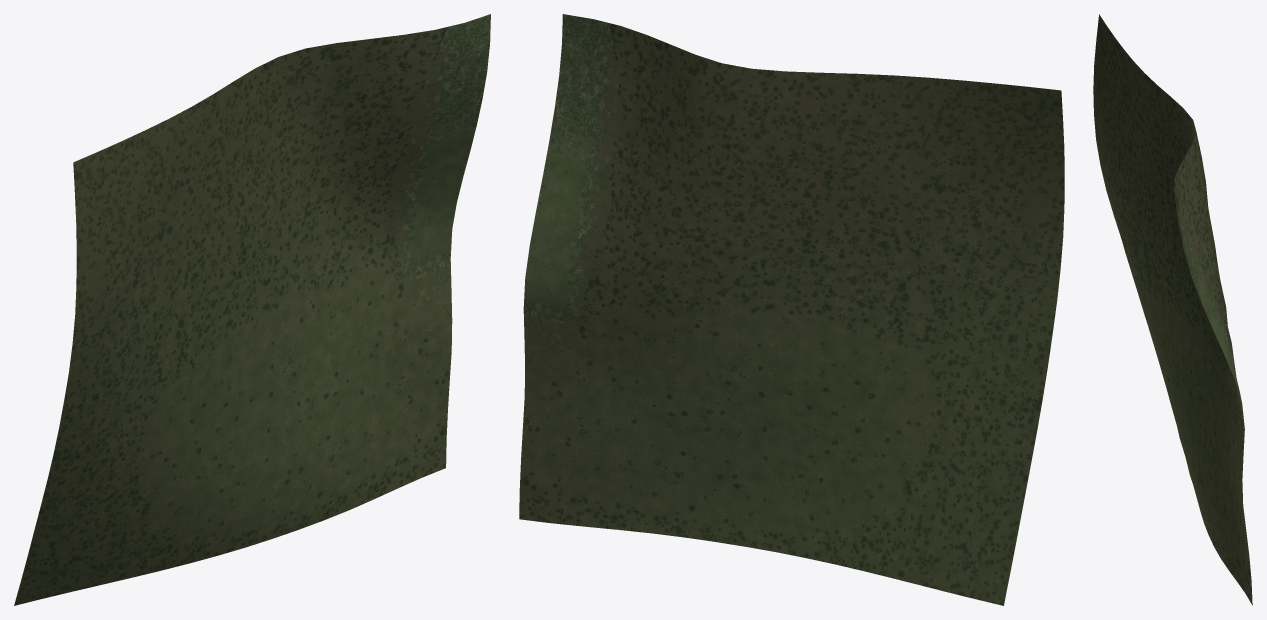
File: terrain_mid_02_03.obj
The picture shows the model from 3 angles, left to right: view 1: azimuth 30°, elevation 25°; view 2: azimuth 150°, elevation 25°; view 3: azimuth 270°, elevation 25°; orthographic projection. The views are drawn at different scales.
Parts seen in each view (by area): view 1: terrain_mid_02_03; view 2: terrain_mid_02_03; view 3: terrain_mid_02_03.
Part boxes in pixels (<box>): terrain_mid_02_03: <box>14,14,490,605</box>; terrain_mid_02_03: <box>519,14,1064,605</box>; terrain_mid_02_03: <box>1093,14,1252,605</box>.
Size of the model in its own units: 320 by 320 by 114.
Materials: 1 (1 with a texture image).
